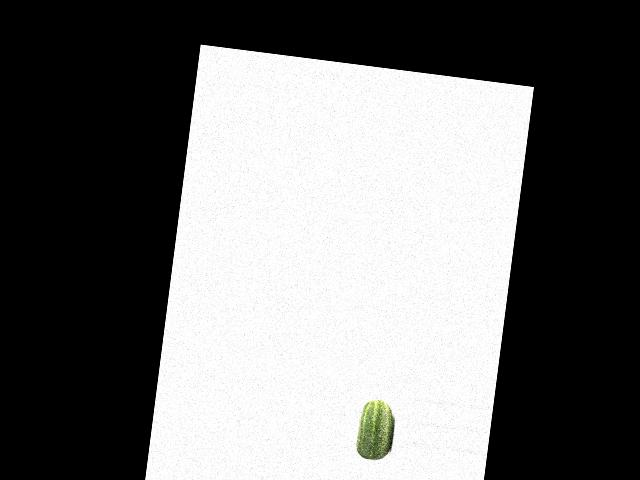cucumber: (355, 398, 396, 462)
